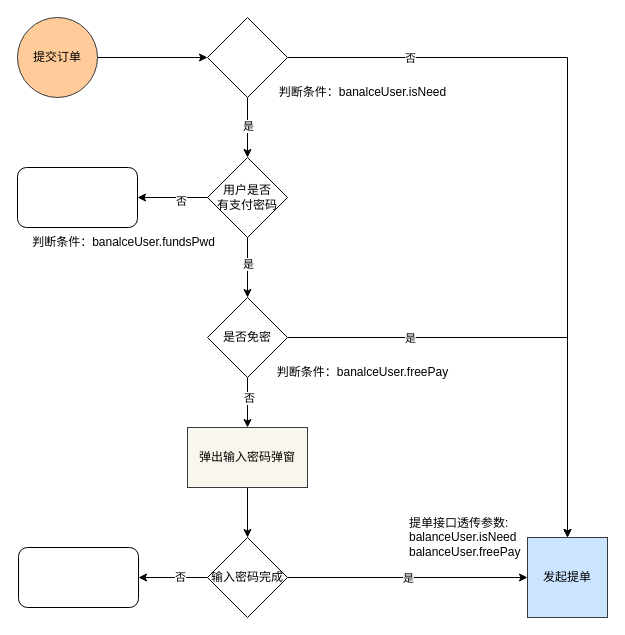
The diagram is 625 pixels wide and 635 high, and some of its shapes have lost their labels. Here are the shapes that lost their labels. From the top down, the box of each, then its label:
(206, 16, 288, 98): 是否需要 输入密码
(16, 166, 138, 228): 弹出设置密码提示
(18, 546, 138, 608): 取消
